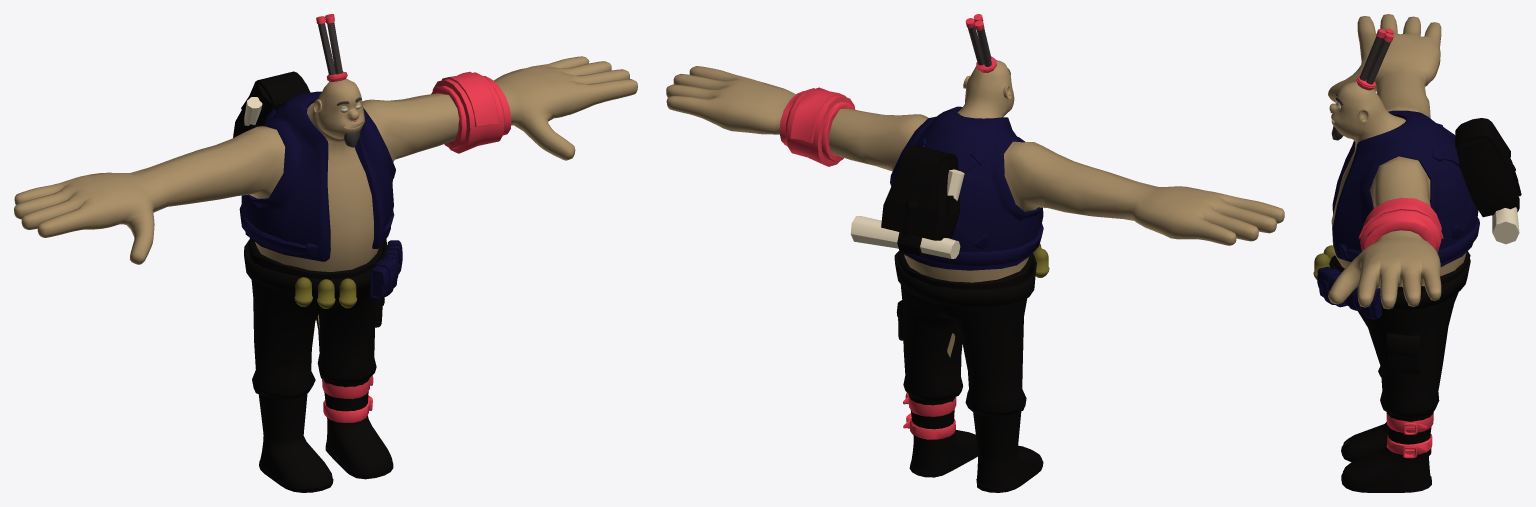
File: PersonagemOficial.fbx
The picture shows the model from 3 angles, left to right: view 1: azimuth 30°, elevation 25°; view 2: azimuth 150°, elevation 25°; view 3: azimuth 270°, elevation 25°; orthographic projection. The views are drawn at different scales.
Parts seen in each view (by area): view 1: CorpoRetopo, ColeteRetopo, CalcaRetopo, Bota.L.Retopo, Bota.R.Retopo, CalcaRetopo.001, Bracelete.Retopo; view 2: CorpoRetopo, ColeteRetopo, CalcaRetopo, Bota.R.Retopo, Bota.L.Retopo, Bracelete.Retopo, CalcaRetopo.001; view 3: CorpoRetopo, ColeteRetopo, CalcaRetopo, Bota.R.Retopo, Bracelete.Retopo, CalcaRetopo.001, Bota.L.Retopo.
Boxes of the visible parts, x1,y1,x2,y2 form: CorpoRetopo: (14,14,637,332); ColeteRetopo: (233,71,395,261); CalcaRetopo: (248,238,384,399); Bota.L.Retopo: (258,393,333,492); Bota.R.Retopo: (322,375,393,479); CalcaRetopo.001: (244,239,402,308); Bracelete.Retopo: (431,71,511,153); CorpoRetopo: (666,14,1284,357); ColeteRetopo: (850,106,1043,270); CalcaRetopo: (896,251,1031,416); Bota.R.Retopo: (903,392,977,477); Bota.L.Retopo: (973,411,1043,492); Bracelete.Retopo: (779,87,855,166); CalcaRetopo.001: (894,244,1049,306); CorpoRetopo: (1328,14,1466,309); ColeteRetopo: (1332,110,1521,266); CalcaRetopo: (1331,251,1470,418); Bota.R.Retopo: (1341,411,1433,492); Bracelete.Retopo: (1358,197,1443,252); CalcaRetopo.001: (1313,245,1470,319); Bota.L.Retopo: (1341,422,1431,461).
Size of the model in its own units: 327 by 234 by 101.
